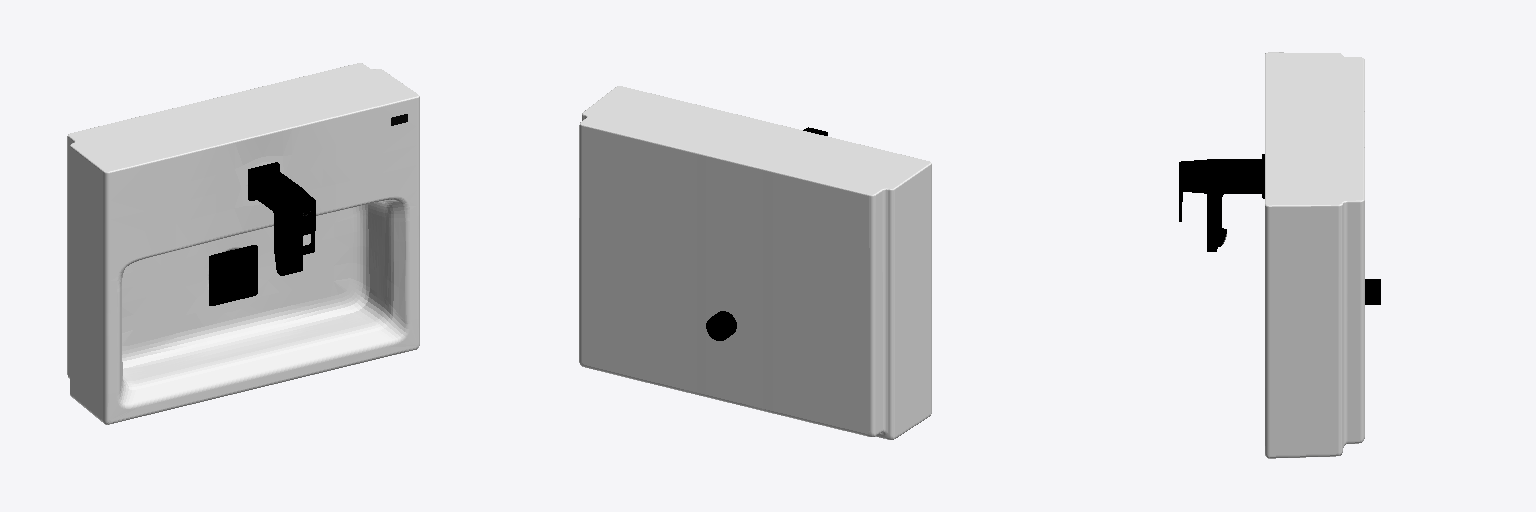
3 renders of one model, left to right at view 1: azimuth 30°, elevation 25°; view 2: azimuth 150°, elevation 25°; view 3: azimuth 270°, elevation 25°, orthographic.
Parts seen in each view (by area): view 1: Grohe_Cube_[number redacted]H_set_03, Grohe_Cube_[number redacted]H_set_01, Grohe_Cube_[number redacted]H_set_02; view 2: Grohe_Cube_[number redacted]H_set_03, Grohe_Cube_[number redacted]H_set_02; view 3: Grohe_Cube_[number redacted]H_set_03, Grohe_Cube_[number redacted]H_set_01.
Part boxes in pixels (bbox=[...]): Grohe_Cube_[number redacted]H_set_03: bbox=[67, 63, 419, 424]; Grohe_Cube_[number redacted]H_set_01: bbox=[248, 162, 315, 275]; Grohe_Cube_[number redacted]H_set_02: bbox=[209, 245, 257, 305]; Grohe_Cube_[number redacted]H_set_03: bbox=[579, 86, 931, 439]; Grohe_Cube_[number redacted]H_set_02: bbox=[706, 311, 736, 340]; Grohe_Cube_[number redacted]H_set_03: bbox=[1265, 52, 1364, 458]; Grohe_Cube_[number redacted]H_set_01: bbox=[1179, 154, 1264, 251].
Size of the model in its own units: 45.5 by 35 by 25.17.
Materials: 6 (1 with a texture image).